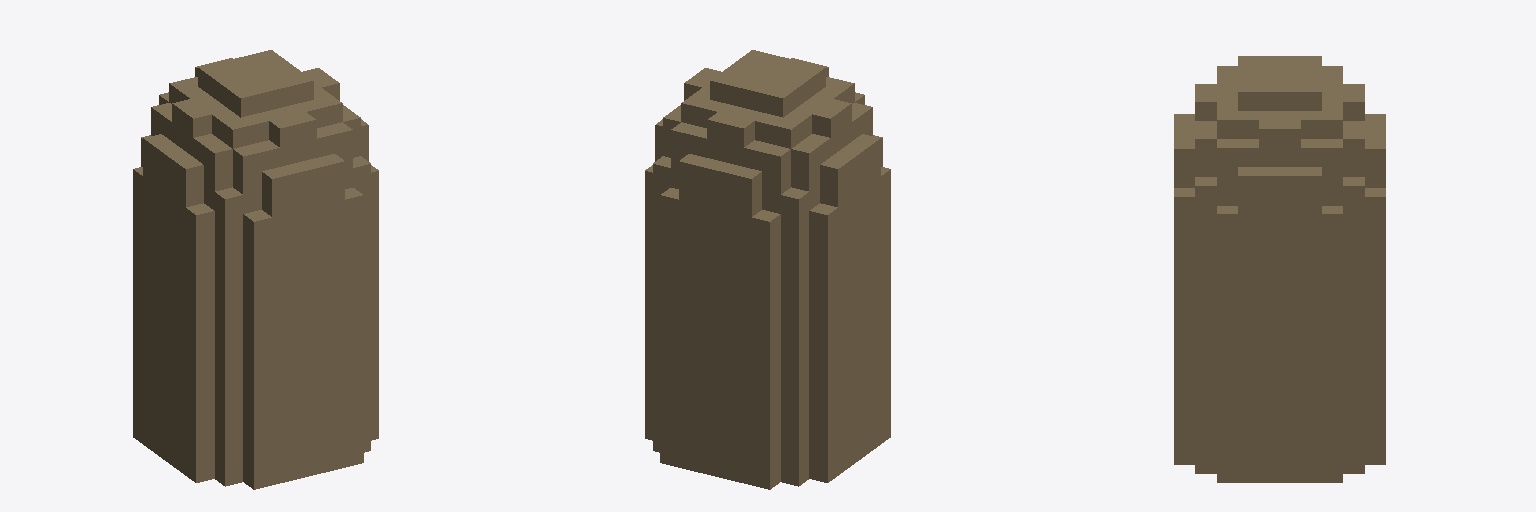
The picture shows the model from 3 angles: view 1: azimuth 30°, elevation 25°; view 2: azimuth 150°, elevation 25°; view 3: azimuth 270°, elevation 25°; orthographic projection.
Parts seen in each view (by area): view 1: object 1; view 2: object 1; view 3: object 1.
Part boxes in pixels (x1,y1,x2,y2): object 1: (133, 50, 378, 489); object 1: (645, 50, 890, 489); object 1: (1174, 56, 1385, 482).
Bounding box in the file's own units: 1 × 1.9 × 1.
Materials: 1 (1 with a texture image).